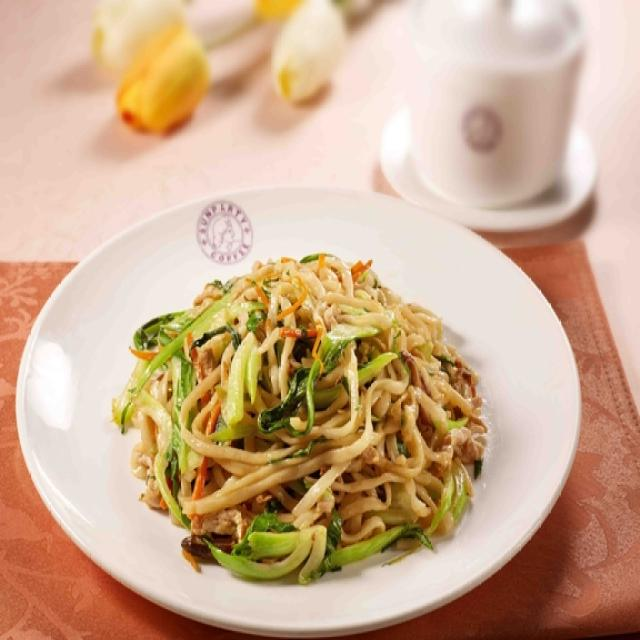面条主食: (50, 202, 551, 615)
